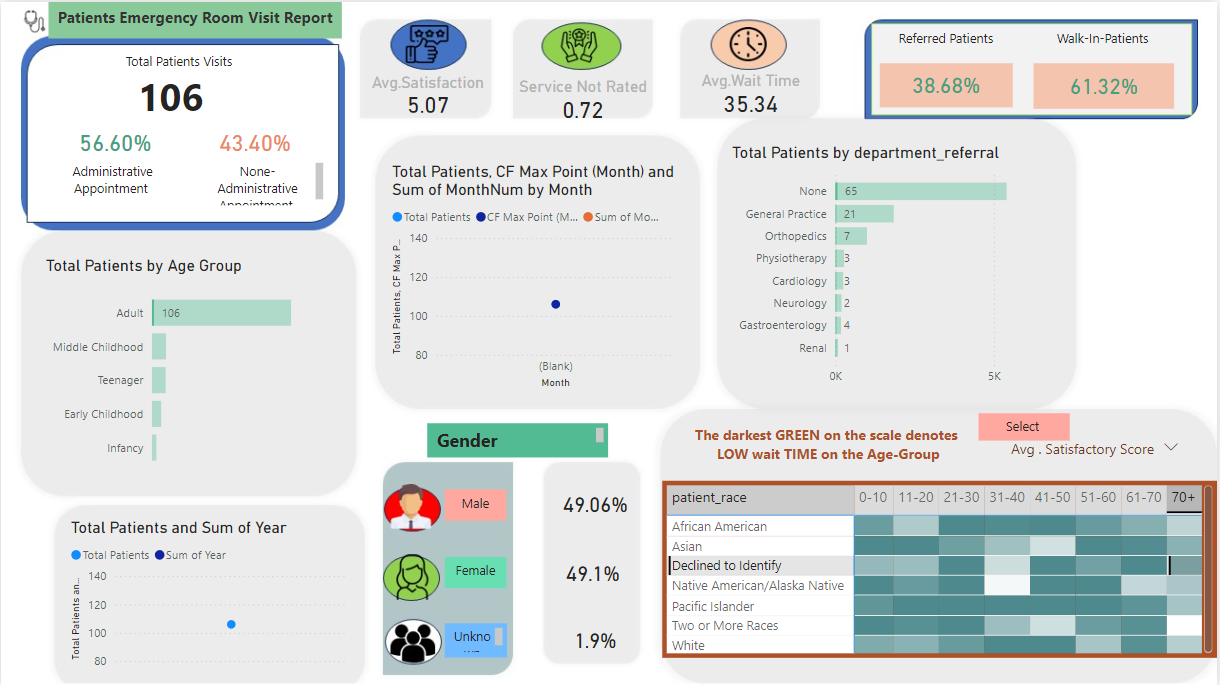

Layout of this report page (visuals, bound fields, positions):
{"tool":"powerbi","page":{"name":"Page 1","canvas":[1280,720],"ordinal":0},"visuals":[{"type":"card","fields":{"Values":["calculations.Total Patients"]},"box":[42.5,70,273.1,59],"z":0},{"type":"card","fields":{"Values":["calculations.% Administrative Schedule"]},"box":[60.4,126.2,119.4,42.5],"z":1000},{"type":"card","fields":{"Values":["calculations.% None - Administrative Schedule"]},"box":[219.6,126.2,96.1,42.5],"z":2000},{"type":"pivotTable","fields":{"Values":["calculations.Average Satisfactory Score"],"Rows":["Patients dataset.patient_race"],"Columns":["Patients dataset.Age Buckets"]},"box":[695.7,503.6,584.6,186.6],"z":3000},{"type":"slicer","fields":{"Values":["Parameter.Parameter"]},"box":[1047,443.2,207.2,53.5],"z":4000},{"type":"clusteredBarChart","fields":{"Category":["Patients dataset.ge Group"],"Y":["calculations.Total Patients"]},"box":[42.5,267.6,301.9,236],"z":5000},{"type":"lineChart","fields":{"Category":["Date.Month"],"Y":["calculations.Total Patients","calculations.CF Max Point (Month)","Sum(Date.MonthNum)"]},"box":[406.2,168.8,307.4,242.9],"z":6000},{"type":"lineChart","fields":{"Y":["calculations.Total Patients","Sum(Date.Year)"]},"box":[68.6,543.4,300.5,164.7],"z":7000},{"type":"clusteredBarChart","fields":{"Y":["calculations.Total Patients"],"Category":["Patients dataset.department_referral"]},"box":[764.3,148.2,340.3,263.5],"z":8000},{"type":"card","fields":{"Values":["calculations.% Referred Patients"]},"box":[924.9,64.5,140,46.7],"z":9000},{"type":"card","fields":{"Values":["calculations.% Un Referred Patients"]},"box":[1086.8,64.5,148.2,48],"z":10000},{"type":"card","fields":{"Values":["calculations.HitMap Caption"]},"box":[713.6,432.2,315.6,64.5],"z":11000},{"type":"textbox","box":[30.2,164.7,174.3,50.8],"z":12000},{"type":"textbox","box":[204.5,164.7,140,54.9],"z":13000},{"type":"card","title":"Avg.Satisfaction","fields":{"Values":["calculations.Average Satisfactory Score"]},"box":[369.1,75.5,159.2,46.7],"z":14000},{"type":"card","title":"Service Not Rated","fields":{"Values":["calculations.% No Rating"]},"box":[528.3,79.6,167.4,48],"z":15000},{"type":"card","title":"Avg.Wait Time","fields":{"Values":["calculations.Average Wait Time"]},"box":[713.6,72.7,152.3,49.4],"z":16000},{"type":"textbox","box":[919.4,23.3,149.6,28.8],"z":17000},{"type":"textbox","box":[1078.6,23.3,164.7,31.6],"z":18000},{"type":"card","fields":{"Values":["calculations.% Female Visit"]},"box":[561.2,494,127.6,71.4],"z":19000},{"type":"card","fields":{"Values":["calculations.% Male Visit"]},"box":[559.9,565.4,127.6,71.4],"z":20000},{"type":"card","fields":{"Values":["calculations.% Unknown"]},"box":[561.2,636.7,127.6,71.4],"z":21000},{"type":"textbox","box":[85.1,48,207.2,31.6],"z":22000},{"type":"textbox","box":[448.7,443.2,190.7,35.7],"z":23000},{"type":"textbox","box":[466.6,513.2,64.5,32.9],"z":23001},{"type":"textbox","box":[466.6,584.6,64.5,32.9],"z":23002},{"type":"textbox","box":[466.6,654.5,65.9,35.7],"z":23003},{"type":"textbox","box":[49.5,0,308.8,38.6],"z":23004},{"type":"textbox","box":[1029.2,432.2,96.1,28.8],"z":23005}]}

Visuals, with their boxes in screenshot pixels (x1, y1, x2, y2), scaled from the page's 1280x720 canvas onto the 1220x685 screenshot:
card - calculations.Total Patients: <box>41,67,301,123</box>
card - calculations.% Administrative Schedule: <box>58,120,171,160</box>
card - calculations.% None - Administrative Schedule: <box>209,120,301,160</box>
pivotTable - calculations.Average Satisfactory Score x Patients dataset.patient_race: <box>663,479,1219,657</box>
slicer - Parameter.Parameter: <box>998,422,1195,473</box>
clusteredBarChart - Patients dataset.ge Group x calculations.Total Patients: <box>41,255,328,479</box>
lineChart - Date.Month x calculations.Total Patients: <box>387,161,680,392</box>
lineChart - calculations.Total Patients x Sum(Date.Year): <box>65,517,352,674</box>
clusteredBarChart - calculations.Total Patients x Patients dataset.department_referral: <box>728,141,1053,392</box>
card - calculations.% Referred Patients: <box>882,61,1015,106</box>
card - calculations.% Un Referred Patients: <box>1036,61,1177,107</box>
card - calculations.HitMap Caption: <box>680,411,981,473</box>
textbox: <box>29,157,195,205</box>
textbox: <box>195,157,328,209</box>
"Avg.Satisfaction" card: <box>352,72,504,116</box>
"Service Not Rated" card: <box>504,76,663,121</box>
"Avg.Wait Time" card: <box>680,69,825,116</box>
textbox: <box>876,22,1019,50</box>
textbox: <box>1028,22,1185,52</box>
card - calculations.% Female Visit: <box>535,470,657,538</box>
card - calculations.% Male Visit: <box>534,538,655,606</box>
card - calculations.% Unknown: <box>535,606,657,674</box>
textbox: <box>81,46,279,76</box>
textbox: <box>428,422,609,456</box>
textbox: <box>445,488,506,520</box>
textbox: <box>445,556,506,587</box>
textbox: <box>445,623,508,657</box>
textbox: <box>47,0,342,37</box>
textbox: <box>981,411,1073,439</box>
